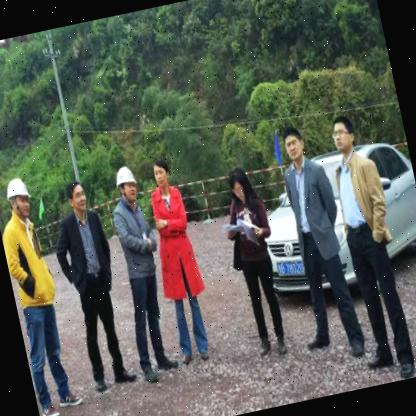capacete: (2, 173, 36, 221), (110, 163, 141, 206)
sem_capacete: (327, 110, 359, 155), (224, 163, 256, 206), (280, 122, 309, 164), (62, 178, 89, 216), (149, 156, 174, 192)
sem_colete_refletivo: (278, 152, 348, 260), (326, 146, 396, 254), (46, 204, 119, 296), (0, 209, 62, 317), (106, 194, 165, 286), (145, 180, 201, 274), (218, 192, 279, 270)
